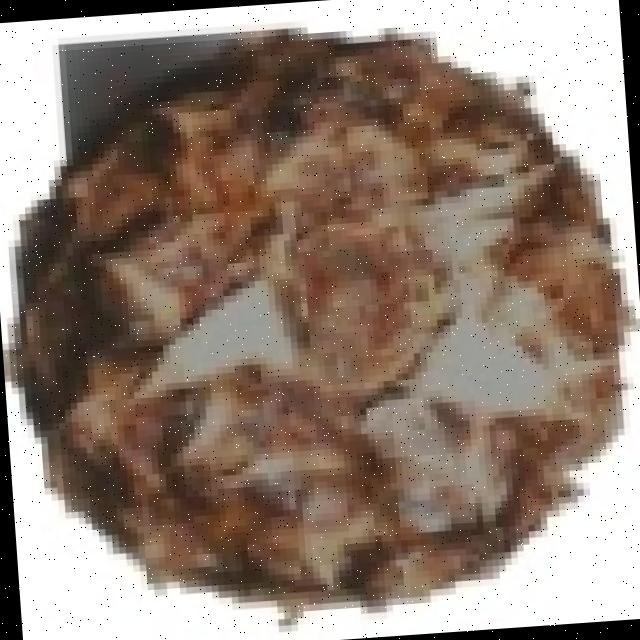pineapple: (30, 45, 629, 623)
